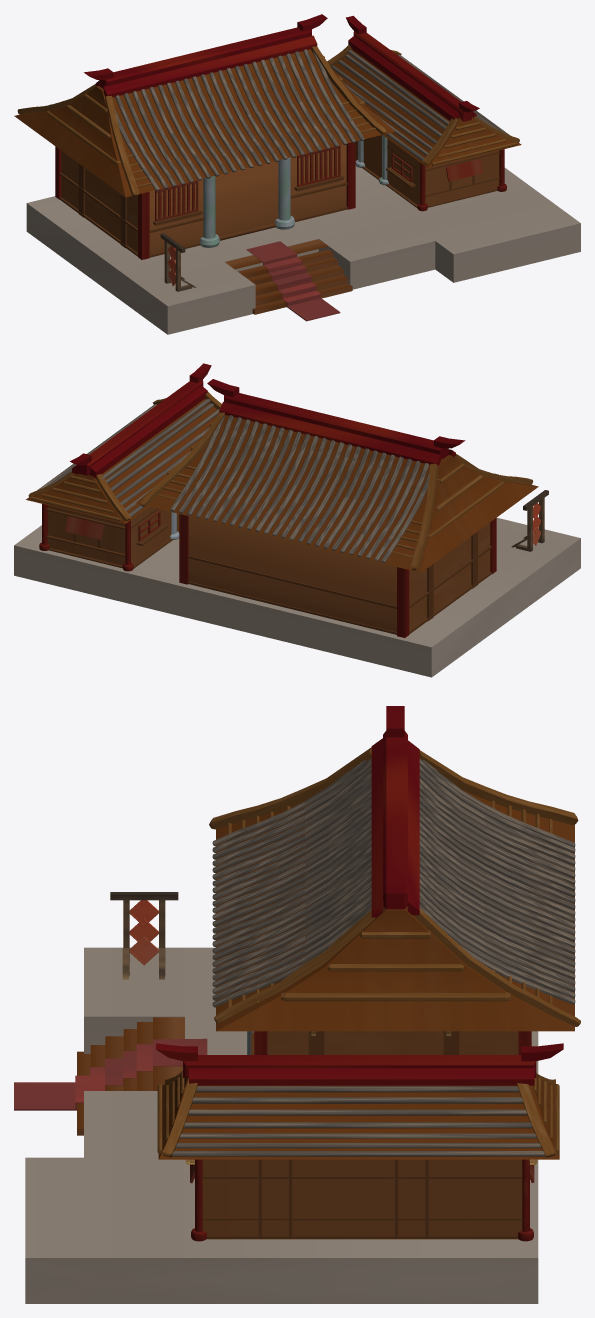
3 renders of one model, top to bottom at view 1: azimuth 30°, elevation 25°; view 2: azimuth 150°, elevation 25°; view 3: azimuth 270°, elevation 25°, orthographic. The views are drawn at different scales.
Parts seen in each view (by area): view 1: diji, dafangding, dazhuti, dazhuti1, xiaozhuti, pCube142, pCube3, pCube143, pCube29, pCube103, pCube109, pCube84 (+40 smaller); view 2: diji, dafangding, dazhuti, dazhuti1, xiaozhuti, pCube3, pCube38, pCube103, pCube109, pCube39, pCube37, pCube81 (+38 smaller); view 3: diji, dafangding, xiaozhuti, dazhuti1, pCube106, pCube103, dazhuti, pCube3, pCube143, pCube142, pCylinder7, pCylinder6 (+67 smaller).
Part boxes in pixels (x1,y1,x2,y2): diji: (26, 165, 580, 334); dafangding: (14, 49, 394, 197); dazhuti: (61, 144, 346, 254); dazhuti1: (333, 49, 521, 167); xiaozhuti: (355, 135, 499, 205); pCube142: (225, 239, 352, 314); pCube3: (84, 14, 327, 88); pCube143: (246, 241, 340, 321); pCube29: (103, 35, 317, 97); pCube103: (346, 15, 479, 121); pCube109: (348, 36, 459, 120); pCube84: (297, 145, 340, 186); diji: (14, 517, 580, 677); dafangding: (135, 411, 538, 572); dazhuti: (188, 516, 490, 632); dazhuti1: (26, 399, 217, 523); xiaozhuti: (47, 505, 179, 565); pCube3: (207, 379, 465, 459); pCube38: (219, 401, 440, 465); pCube103: (70, 363, 211, 475); pCube109: (89, 385, 207, 478); pCube39: (411, 463, 438, 570); pCube37: (140, 412, 226, 506); pCube81: (397, 567, 409, 637); diji: (25, 947, 538, 1303); dafangding: (216, 788, 574, 1031); xiaozhuti: (202, 1159, 522, 1239); dazhuti1: (158, 1075, 559, 1159); pCube106: (189, 1067, 534, 1085); pCube103: (156, 1043, 563, 1077); dazhuti: (267, 1031, 518, 1054); pCube3: (383, 706, 407, 909); pCube143: (14, 1038, 207, 1110); pCube142: (77, 1017, 184, 1135); pCylinder7: (184, 1122, 532, 1128); pCylinder6: (188, 1109, 527, 1115).
Bounding box in the file's own units: 1166 × 523 × 898.
